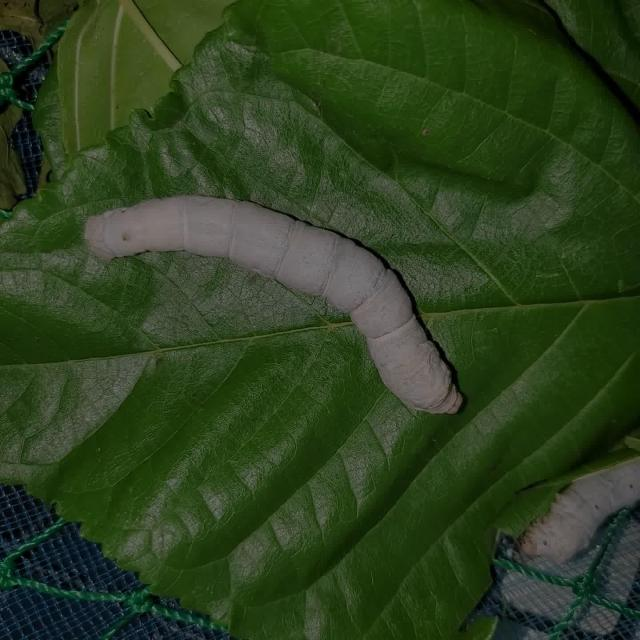Healthy: (72, 185, 470, 419)
